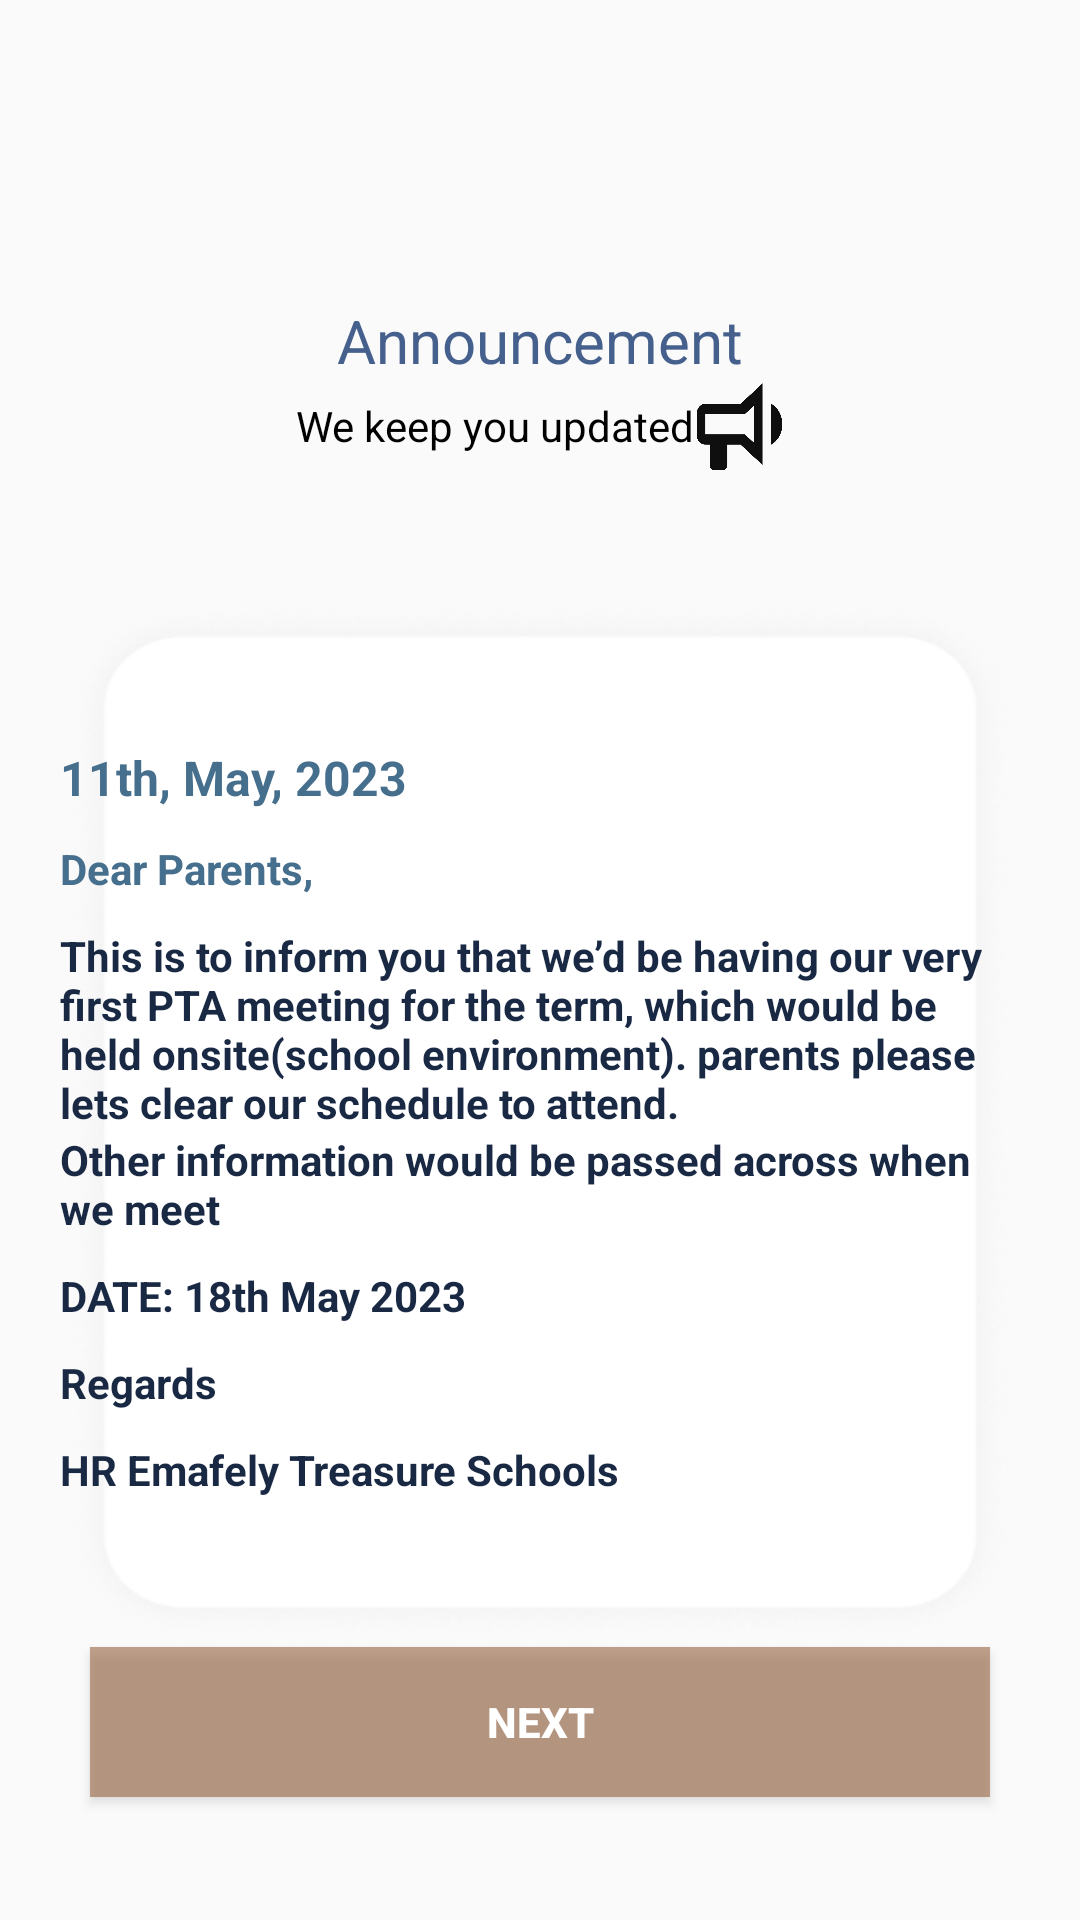

Locate icon controls on the screen. Image size 1080 × 1920, boxes as (x1, y1, x2, y2).
speaker voice: (697, 383, 782, 470)
